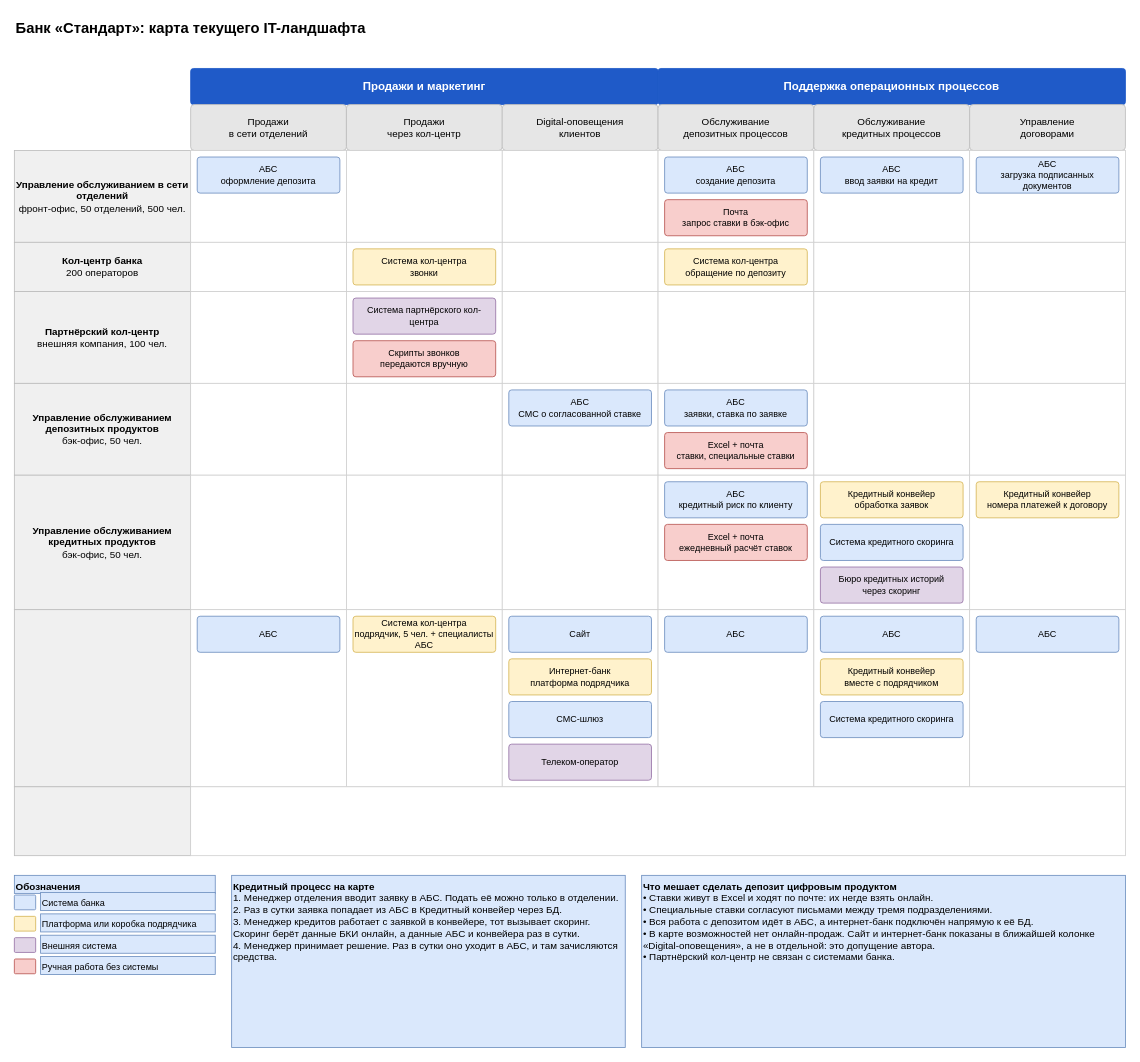
The diagram is 1140 pixels wide and 1062 high, and some of its shapes have lost their labels. Here are the shapes that lost their labels. From the top down, the box of each, then its label:
(14, 609, 191, 787): Управление IT интернет-банк 10 + 10 у подрядчика, АБС 20 чел.
(14, 786, 191, 856): Команда цифровой трансформации розничного бизнеса 10 чел.
